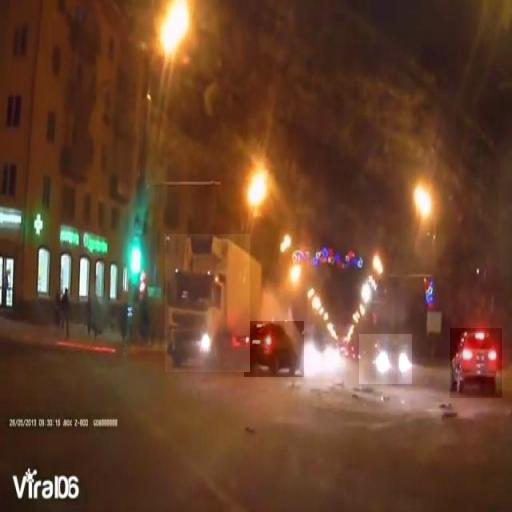小汽车: (165, 234, 250, 372), (450, 328, 502, 398), (244, 321, 304, 377), (359, 334, 412, 384)
